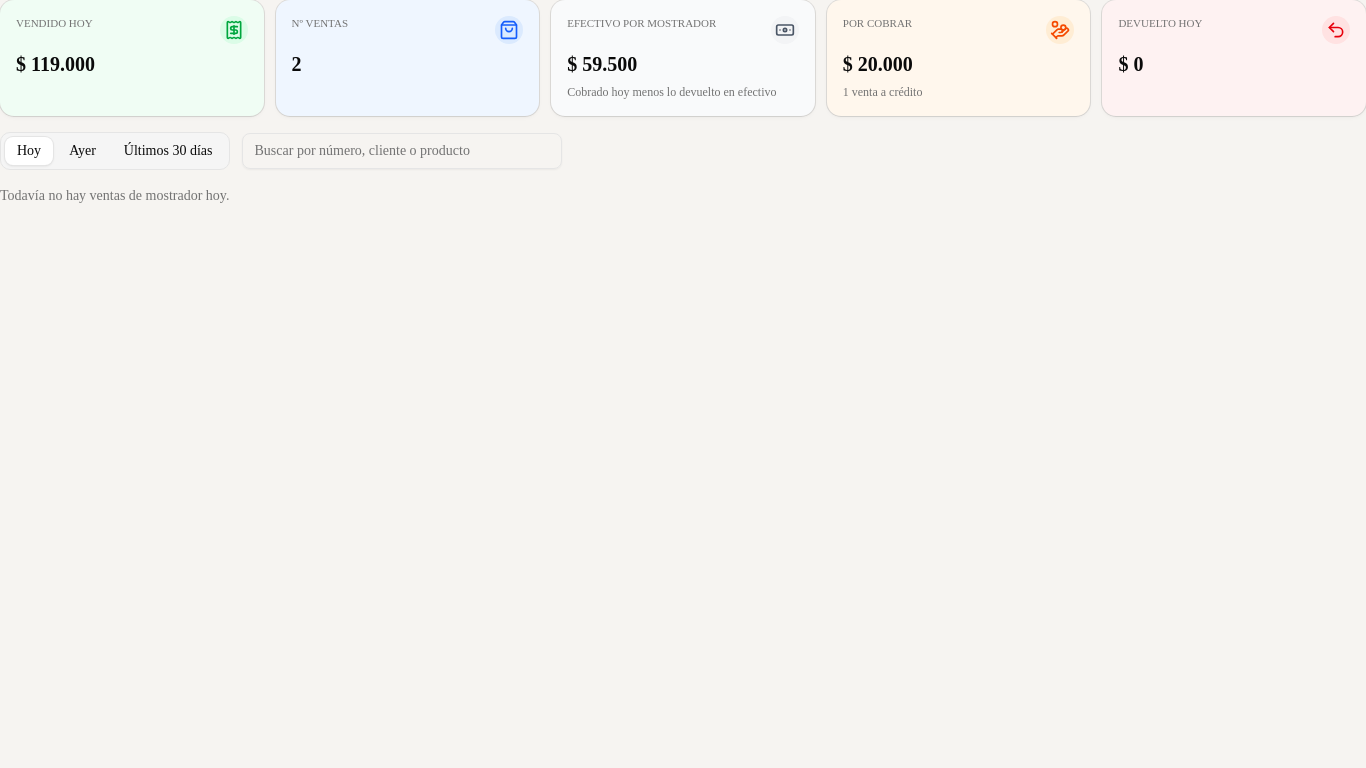
Test case: PanelVentas › tras cobrar no cierra el panel: refresca la lista y el monto sigue al saldo nuevo
Click the button "Ayer" at coordinates (82, 151), box [57, 137, 108, 165]
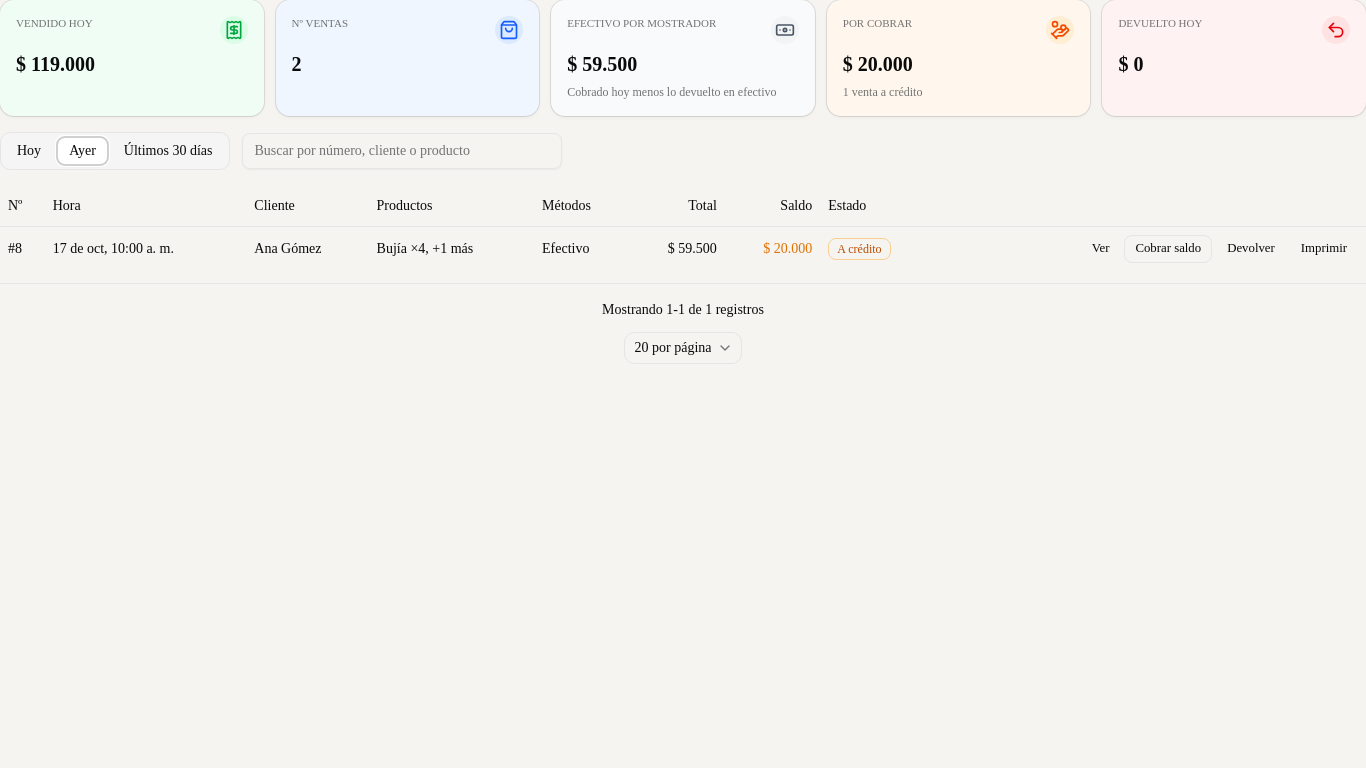
Click the button with aria-label "Cobrar saldo de la venta #8" at coordinates (1168, 248), box [1124, 234, 1212, 262]
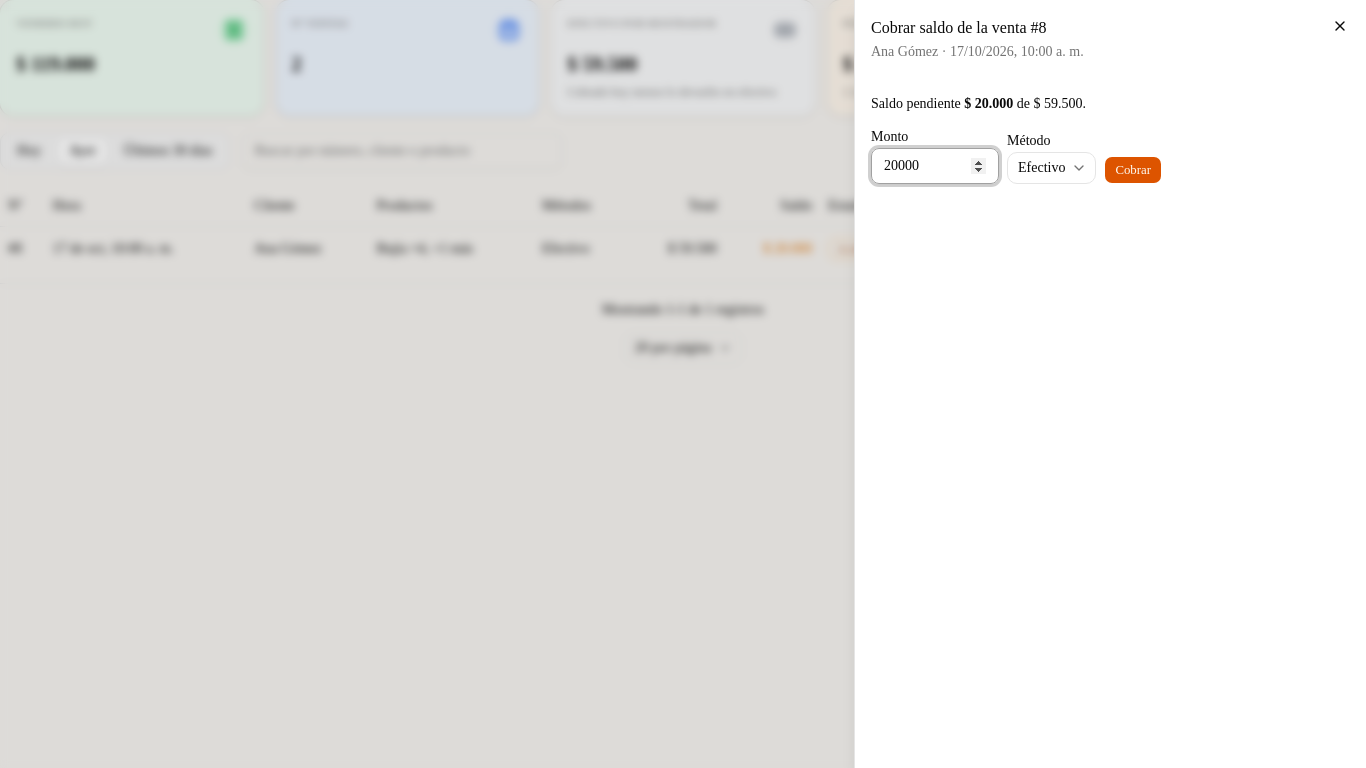
Replace the text in the number field labelled "Monto" with "15000" at coordinates (935, 166), box [871, 148, 999, 184]
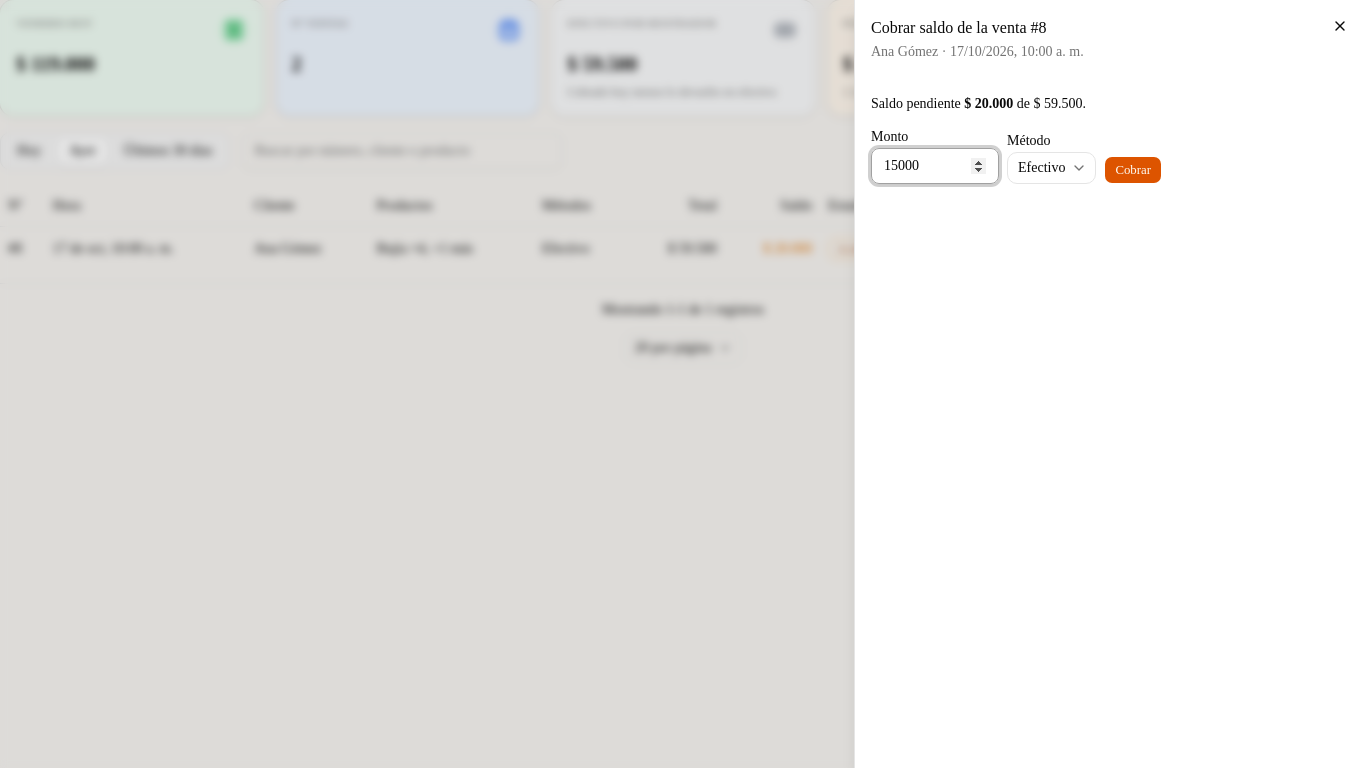
Click the button "Cobrar" at coordinates (1133, 170), box [1104, 156, 1162, 184]
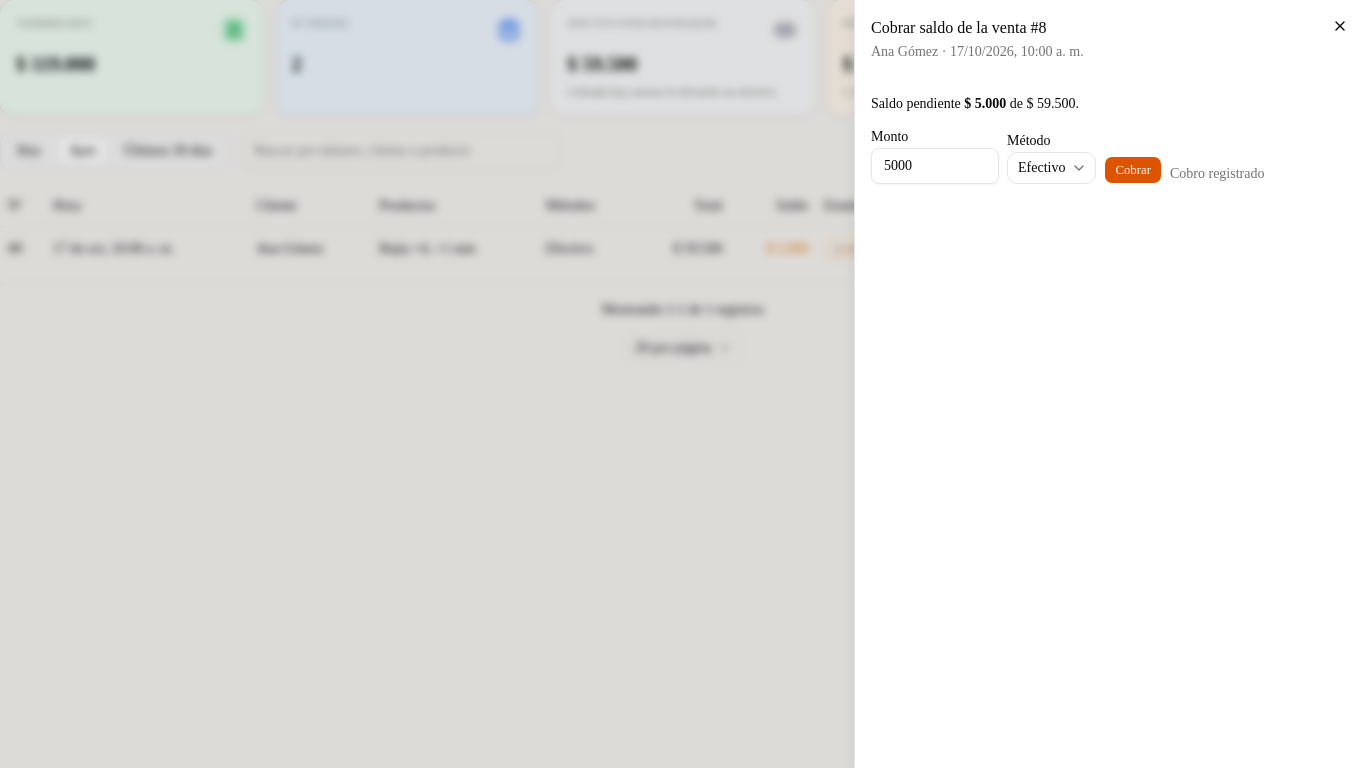
Check: the dialog is shown, box [854, 0, 1365, 767]
Check: the number field labelled "Monto" holds "5000", box [871, 148, 999, 184]
